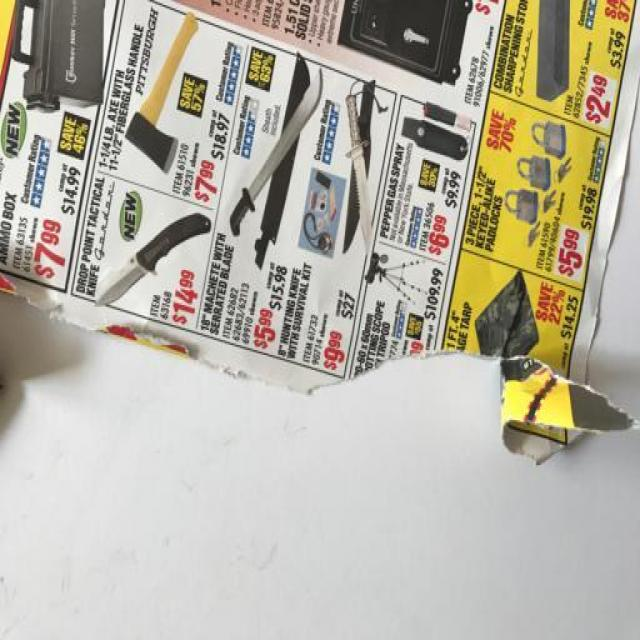paper: (10, 3, 624, 497)
